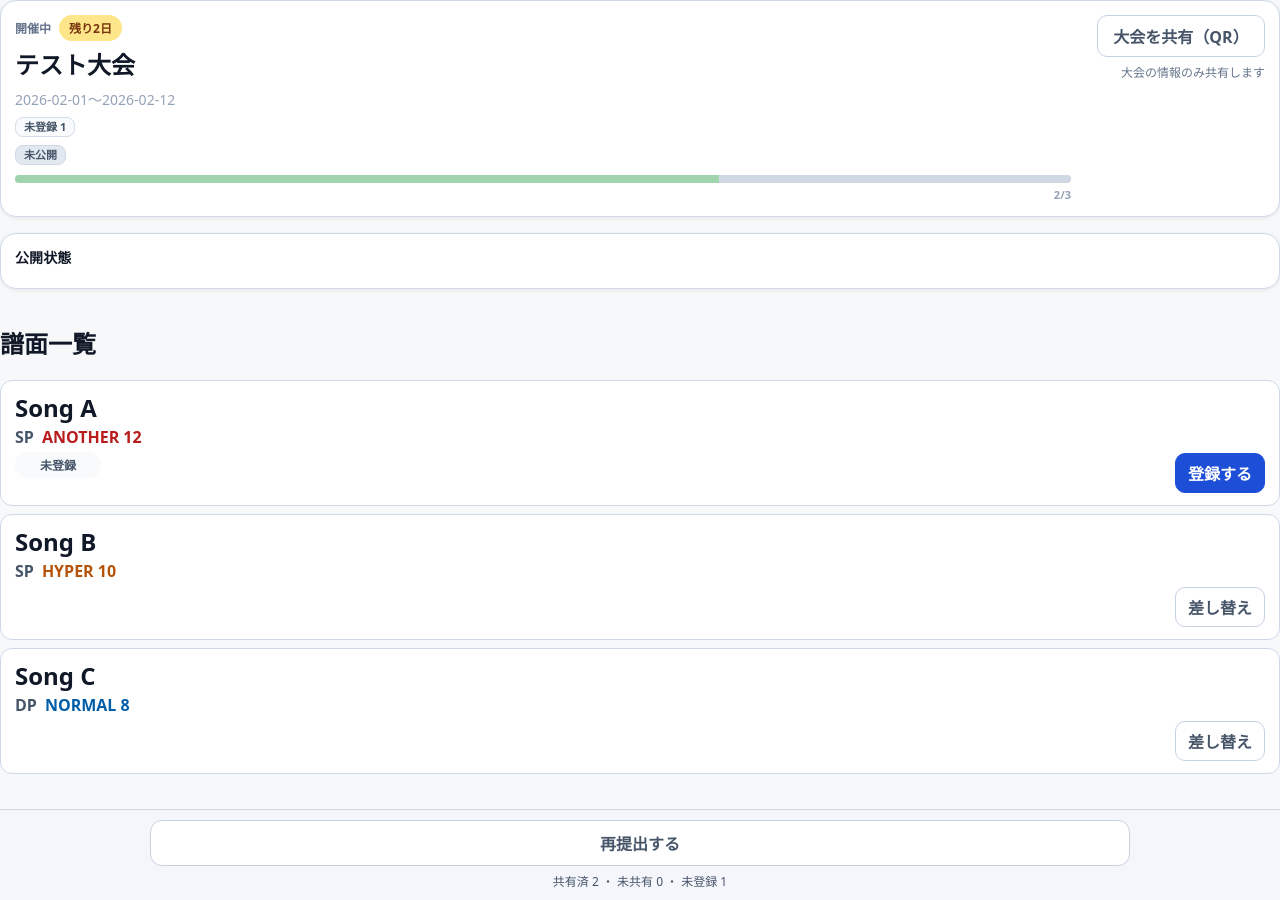
Test: TournamentDetailPage › shows overwrite notice in resubmit mode
Click the button with test id "tournament-detail-submit-open-button": (640, 843) [150,820,1130,866]
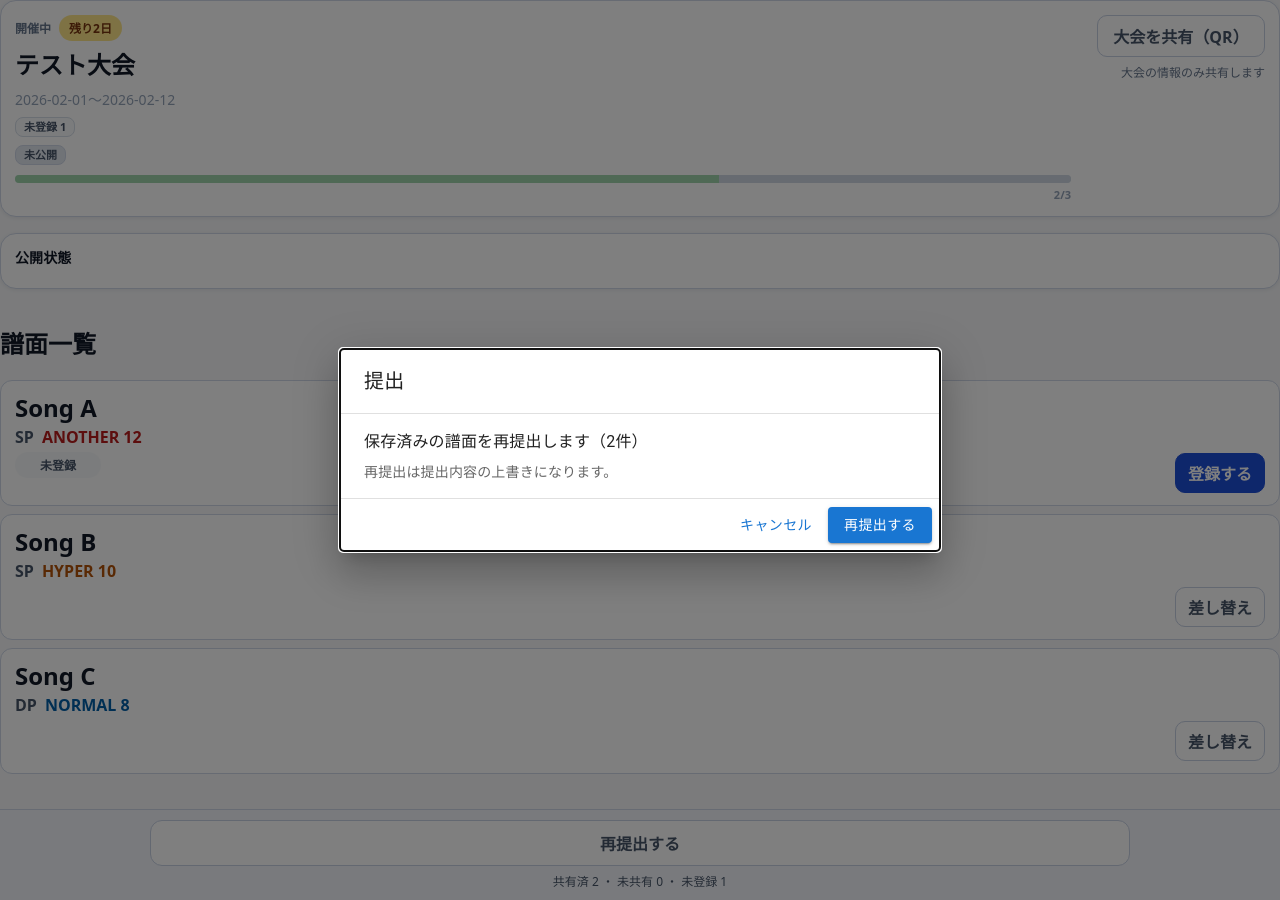
Expected: the text with test id "tournament-detail-submit-confirm-text" shows "再提出します", [364,432,648,451]
Expected: the text with test id "tournament-detail-submit-resubmit-note" shows "上書き", [364,464,617,480]
